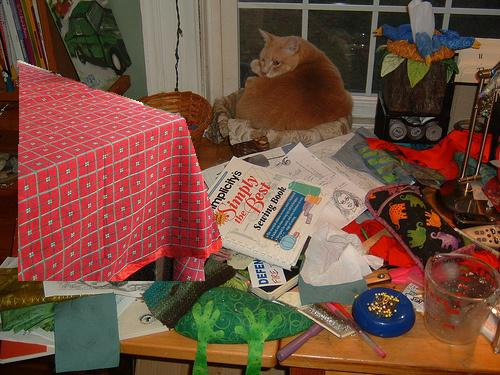tampered: (18, 59, 222, 281)
